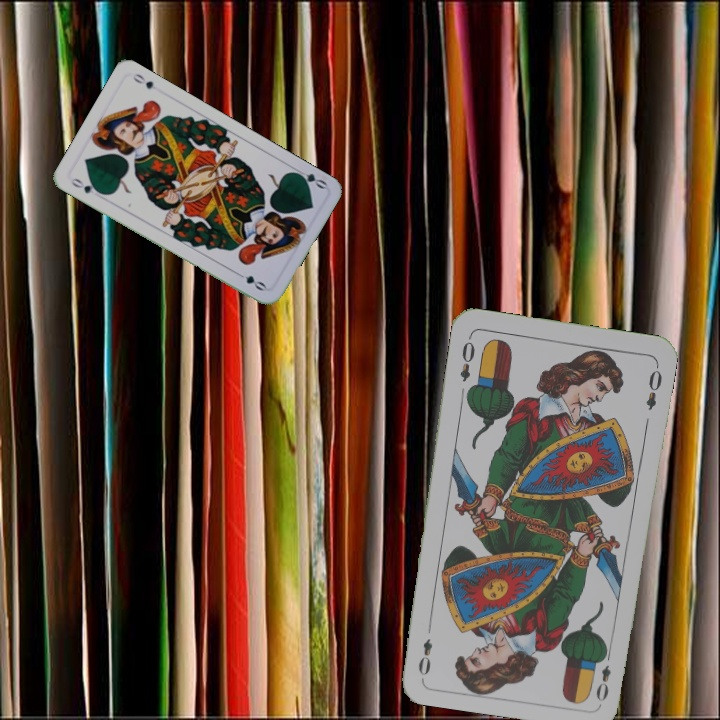EO: (592, 646, 614, 704), (455, 332, 478, 384)
GO: (290, 164, 329, 192), (67, 174, 105, 197)
